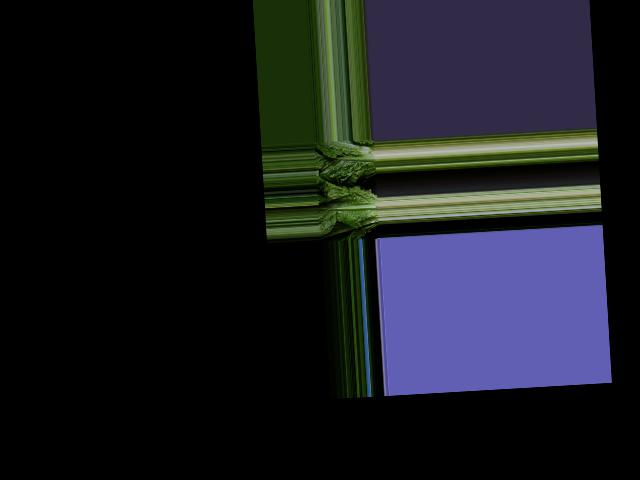lettuce: (317, 141, 377, 184)
